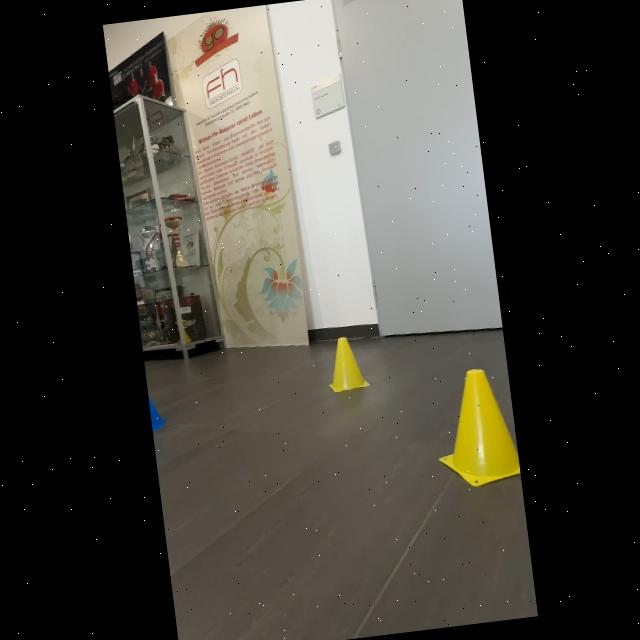yellow_cone: (422, 362, 520, 492), (316, 326, 379, 406)
